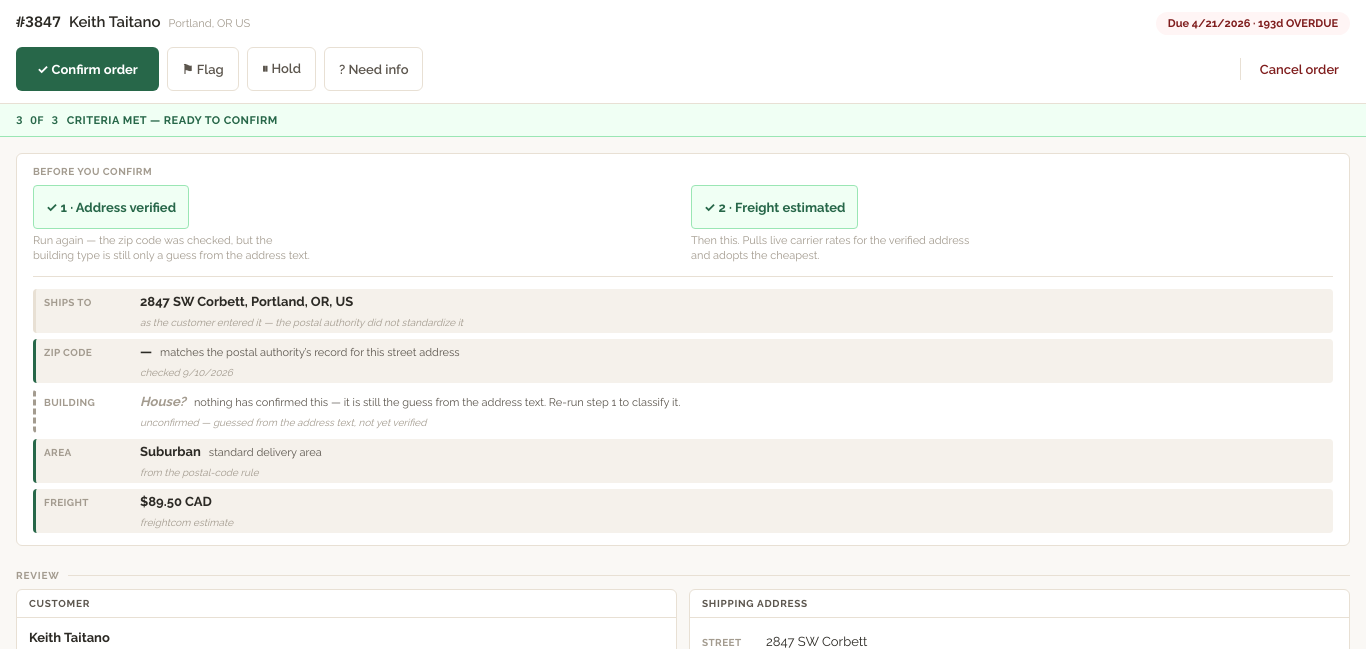
Detail › keeps the action bar visible while a reason drawer is open
Click the button "⚑ Flag" at (203, 69), box [167,47,239,91]
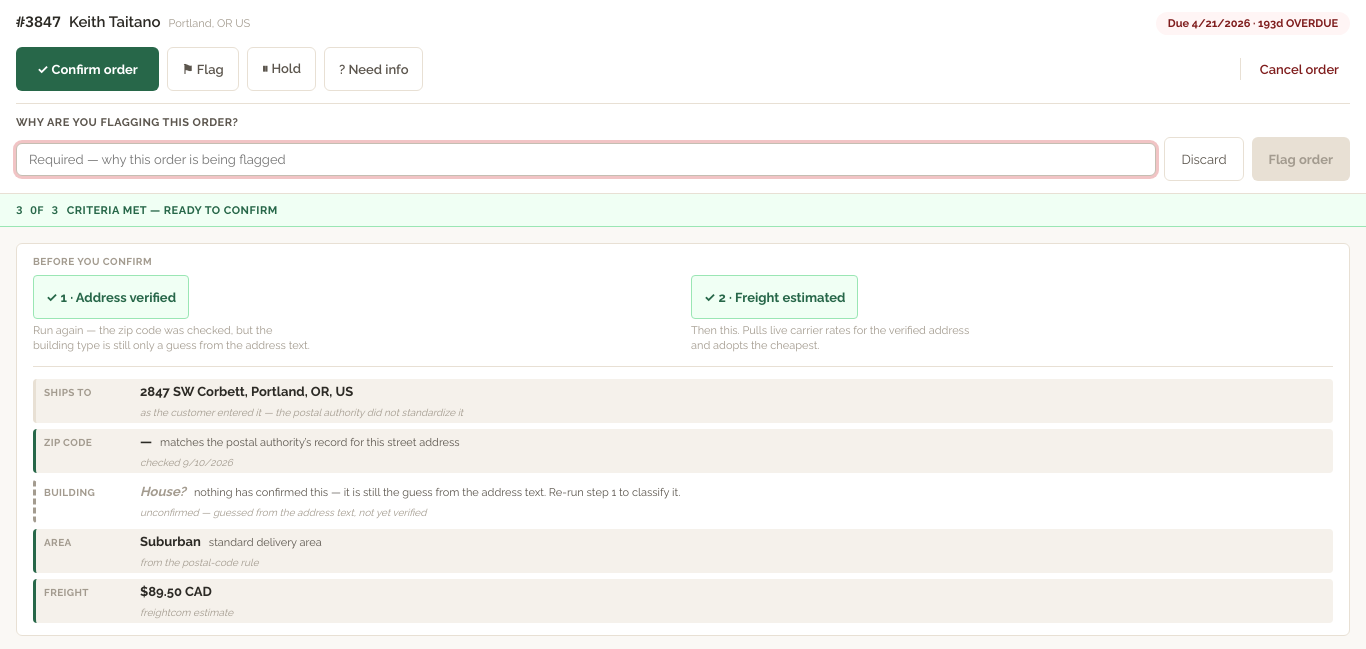
expect the button "✓ Confirm order" is shown: met, box [16,47,159,91]
expect the button "Flag order" is shown: met, box [1252,137,1350,181]
